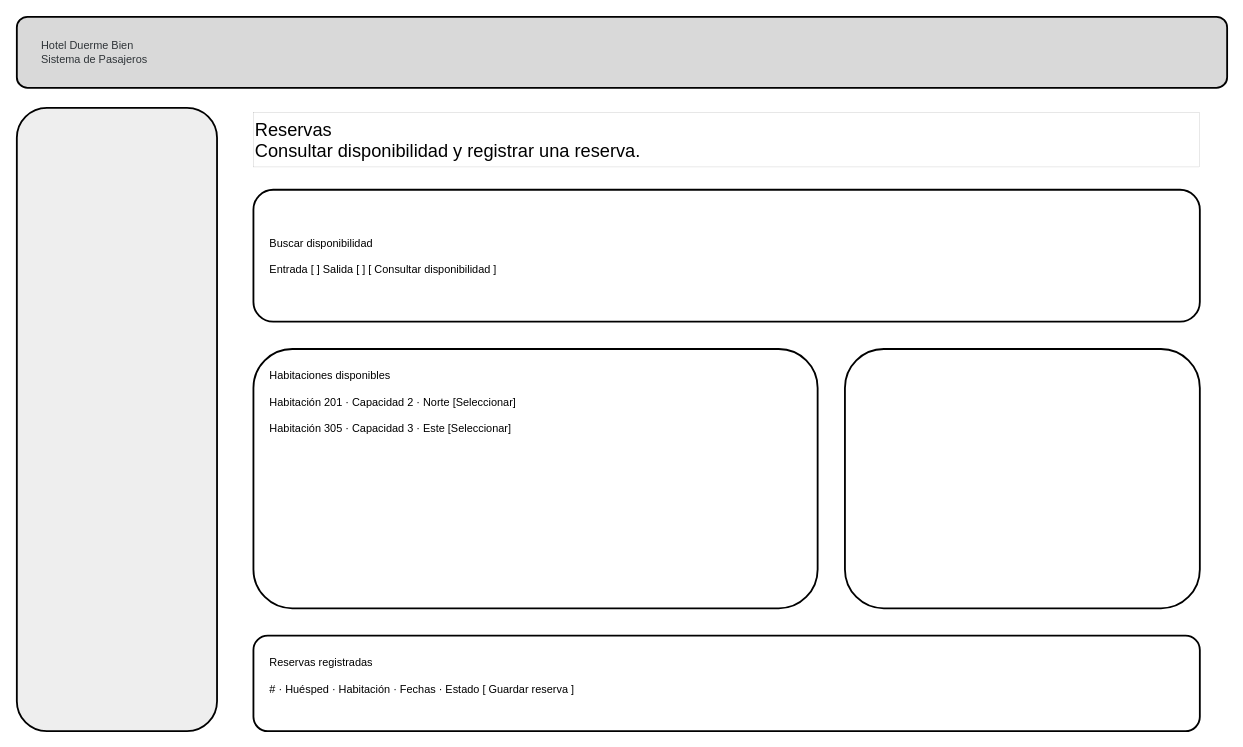
Image size: 1243x747. Some labels were removed from this diagram. The shapes that lost their labels are listed below. From the top down, each one's centre as x and y in pixels, then its label:
At [116,419]: "Menú Inicio Habitaciones Huéspedes Reservas Check-in Check-out Usuarios Informes".
At [1022,478]: "Nueva reserva Huésped [ ] Habitación [ ] Entrada / salida / pasajeros [ ]".
